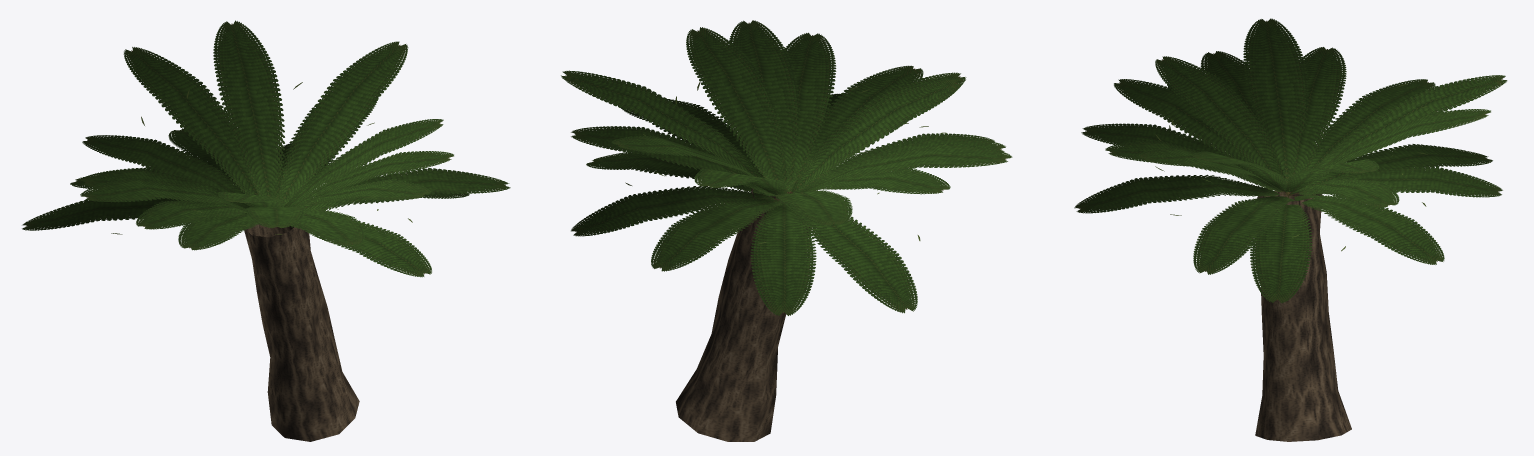
Rendered from ENV_Tree_04.fbx.
3 renders of one model, left to right at view 1: azimuth 30°, elevation 25°; view 2: azimuth 150°, elevation 25°; view 3: azimuth 270°, elevation 25°, orthographic. The views are drawn at different scales.
Visible parts, largest first — view 1: ENV_Tree_04_LOD0; view 2: ENV_Tree_04_LOD0; view 3: ENV_Tree_04_LOD0.
Boxes of the visible parts, x1=… form: ENV_Tree_04_LOD0: x1=22, y1=20, x2=510, y2=441; ENV_Tree_04_LOD0: x1=561, y1=20, x2=1012, y2=441; ENV_Tree_04_LOD0: x1=1074, y1=18, x2=1507, y2=441.
Size of what is drawn, in the model's own units: 5.48 by 4.17 by 5.18.
